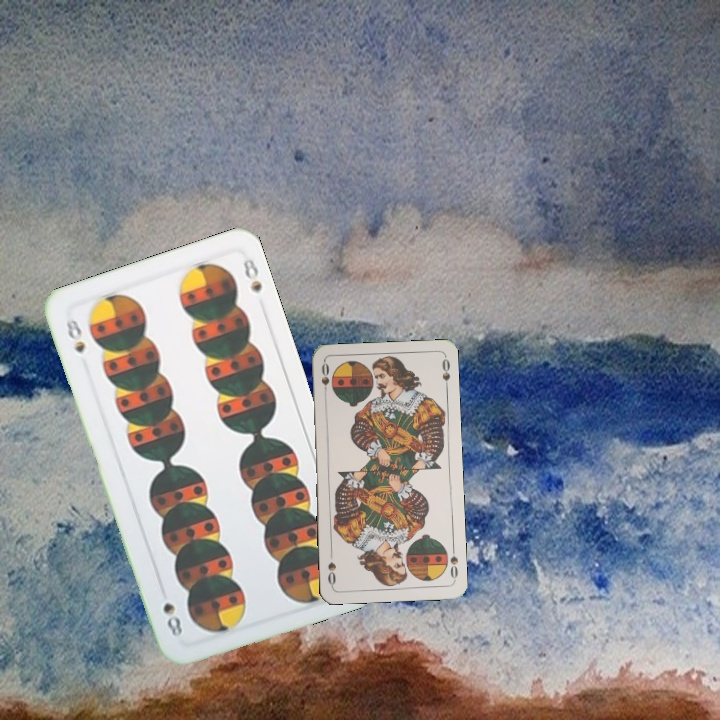S8: (62, 315, 88, 356)
SO: (317, 359, 332, 400), (446, 542, 461, 583)
